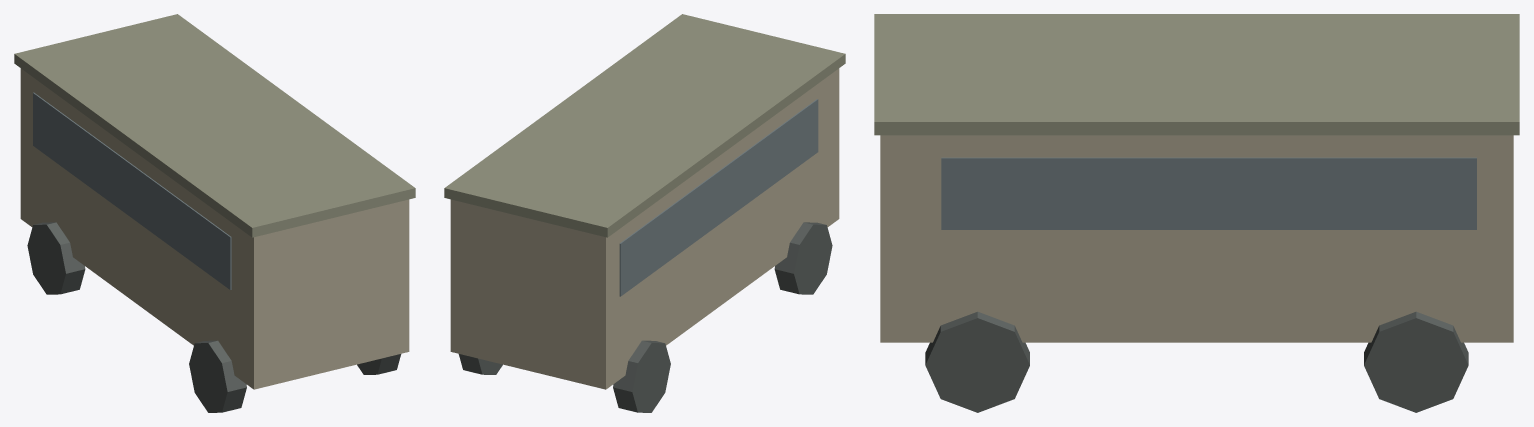
The model's file is bus.glb.
3 views of the same model, side by side, from view 1: azimuth 30°, elevation 25°; view 2: azimuth 150°, elevation 25°; view 3: azimuth 270°, elevation 25° (orthographic). The views are drawn at different scales.
Visible parts, largest first — view 1: bus-0, bus-2, bus-1, bus-3, bus-5, bus-6; view 2: bus-0, bus-2, bus-1, bus-5, bus-3, bus-4; view 3: bus-0, bus-2, bus-1, bus-4, bus-6.
Part boxes in pixels (box(x1,y1,x2,y2)): bus-0: box(20, 68, 409, 389); bus-2: box(14, 14, 415, 237); bus-1: box(33, 92, 231, 289); bus-3: box(27, 222, 85, 294); bus-5: box(189, 340, 246, 412); bus-6: box(357, 354, 401, 374); bus-0: box(450, 68, 839, 389); bus-2: box(444, 14, 845, 237); bus-1: box(619, 99, 818, 296); bus-5: box(774, 222, 832, 294); bus-3: box(613, 340, 670, 412); bus-4: box(458, 354, 502, 374); bus-0: box(880, 135, 1513, 342); bus-2: box(874, 14, 1519, 135); bus-1: box(941, 157, 1476, 229); bus-4: box(1364, 311, 1468, 412); bus-6: box(925, 311, 1029, 412).
Size of the model in its own units: 2.25 by 2.6 by 5.3.
